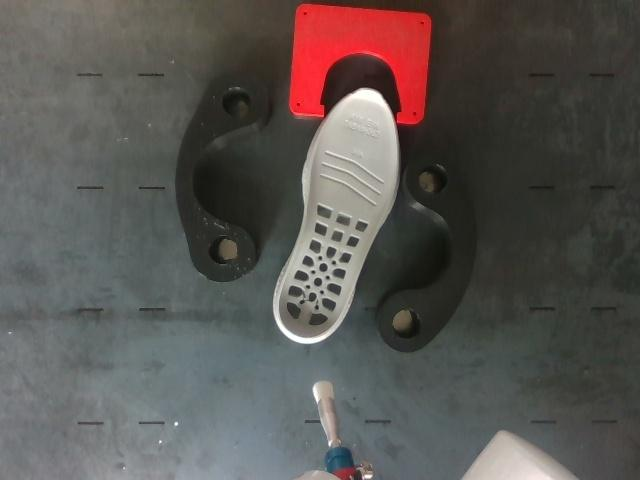shoes: (279, 90, 399, 338)
